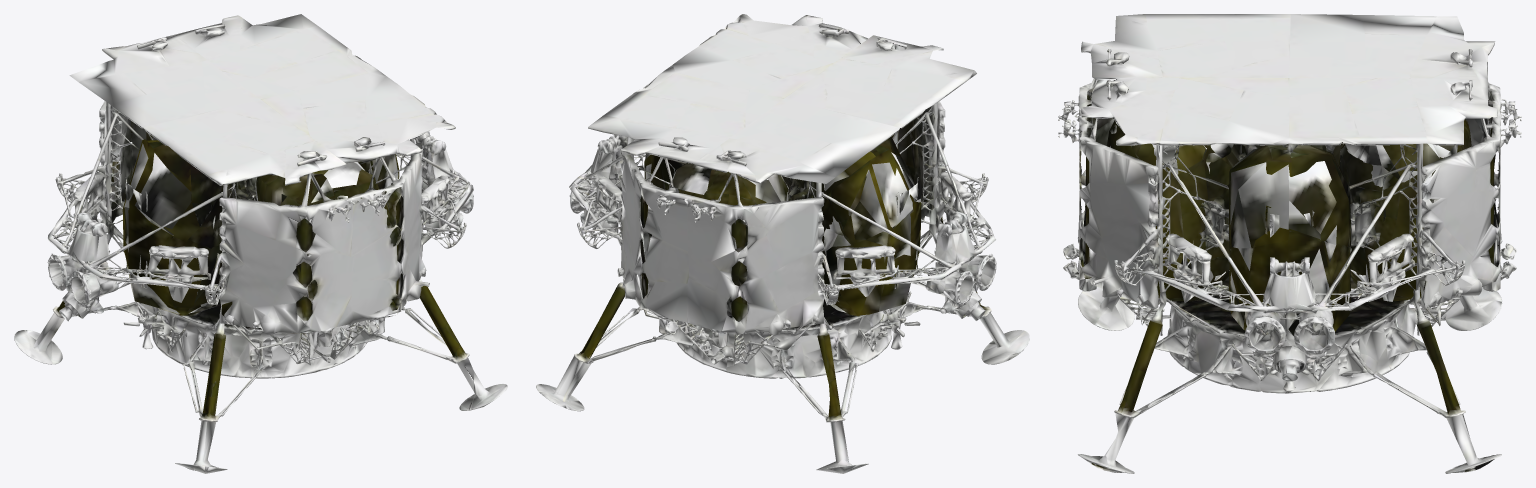
File: peregrine-low.glb
The picture shows the model from 3 angles, left to right: view 1: azimuth 30°, elevation 25°; view 2: azimuth 150°, elevation 25°; view 3: azimuth 270°, elevation 25°; orthographic projection. The views are drawn at different scales.
Size of the model in its own units: 1.9 by 1.32 by 1.69.
Materials: 1 (1 with a texture image).
